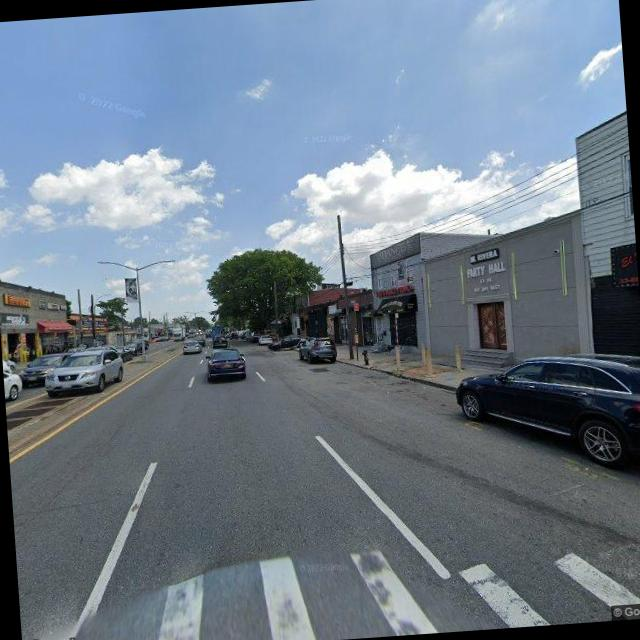crack: (12, 489, 125, 521)
